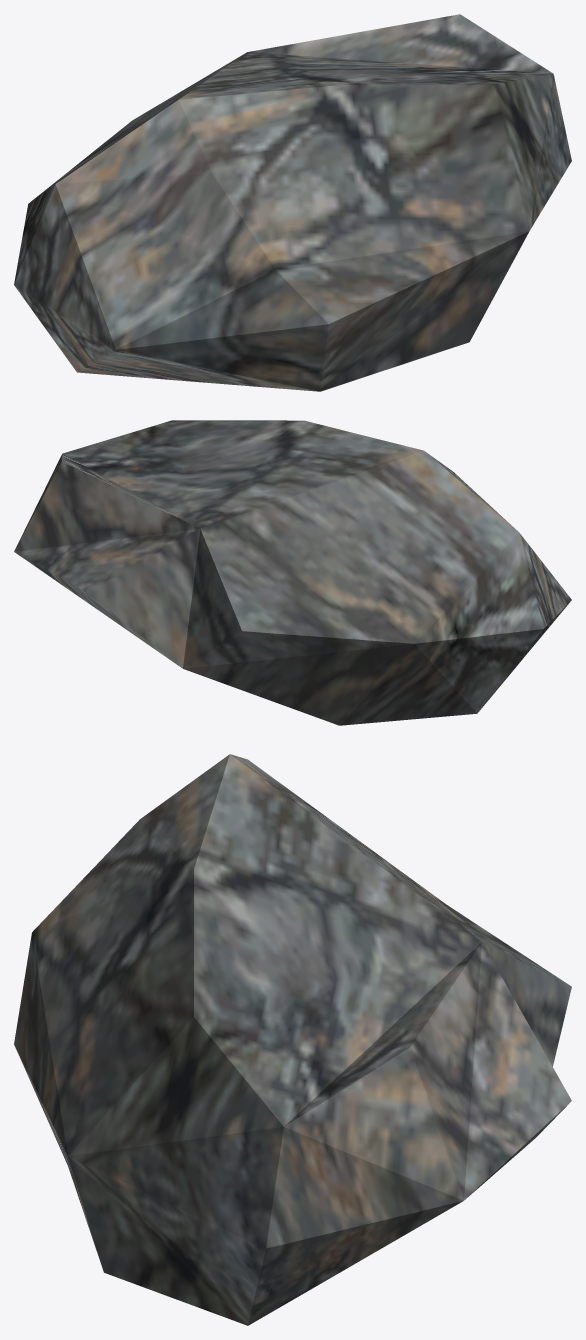
Rendered from C1SNROKA.obj.
3 renders of one model, top to bottom at view 1: azimuth 30°, elevation 25°; view 2: azimuth 150°, elevation 25°; view 3: azimuth 270°, elevation 25°, orthographic. The views are drawn at different scales.
Visible parts, largest first — view 1: Node 0; view 2: Node 0; view 3: Node 0.
Boxes of the visible parts, left/top/right/bottom form: Node 0: left=14, top=14, right=571, bottom=391; Node 0: left=14, top=420, right=571, bottom=725; Node 0: left=14, top=754, right=571, bottom=1325.
Size of the model in its own units: 0.48 by 0.22 by 0.31.
1 material, 1 textured.
